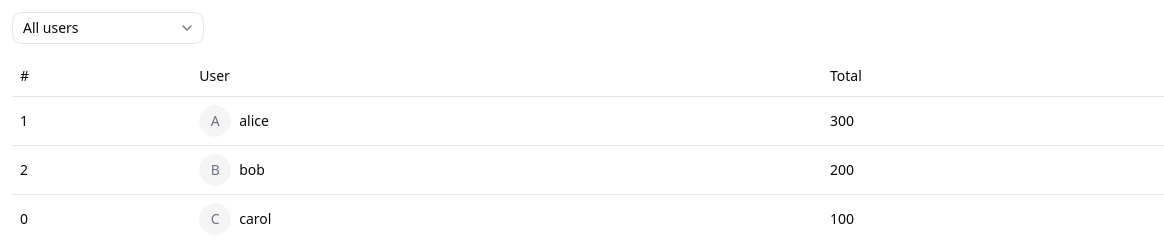
Test: scoreboard participant filtering › hides unranked participants in the ranked filter
The width and height of the screenshot is (1164, 241).
Click the dropdown named "Filter participants" at (108, 28), box [12,12,204,44]
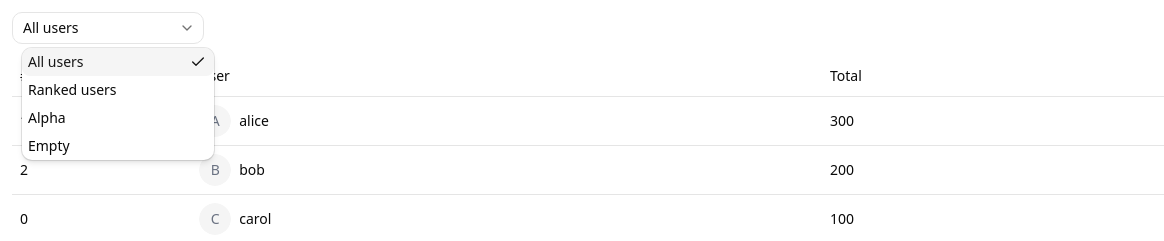
Click the option "Ranked users" at (72, 90), box [28,80,117,99]
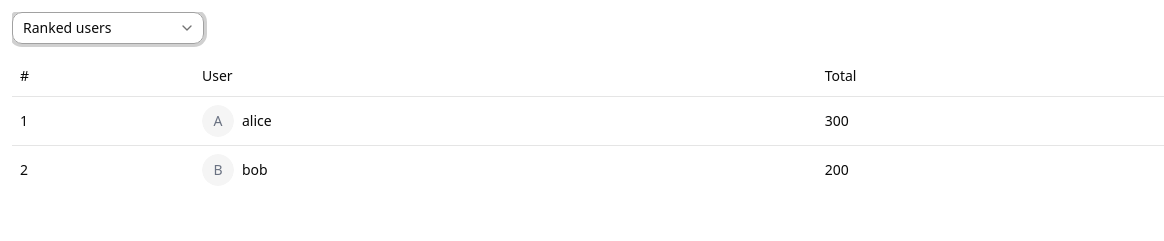
Check: the text "alice" is shown, box [242,110,272,130]
Check: the link "carol" is gone
